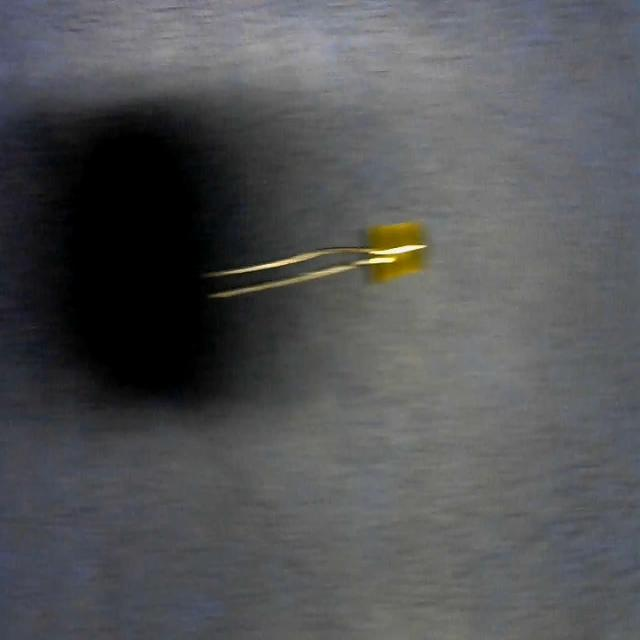LED: (208, 218, 430, 301)
